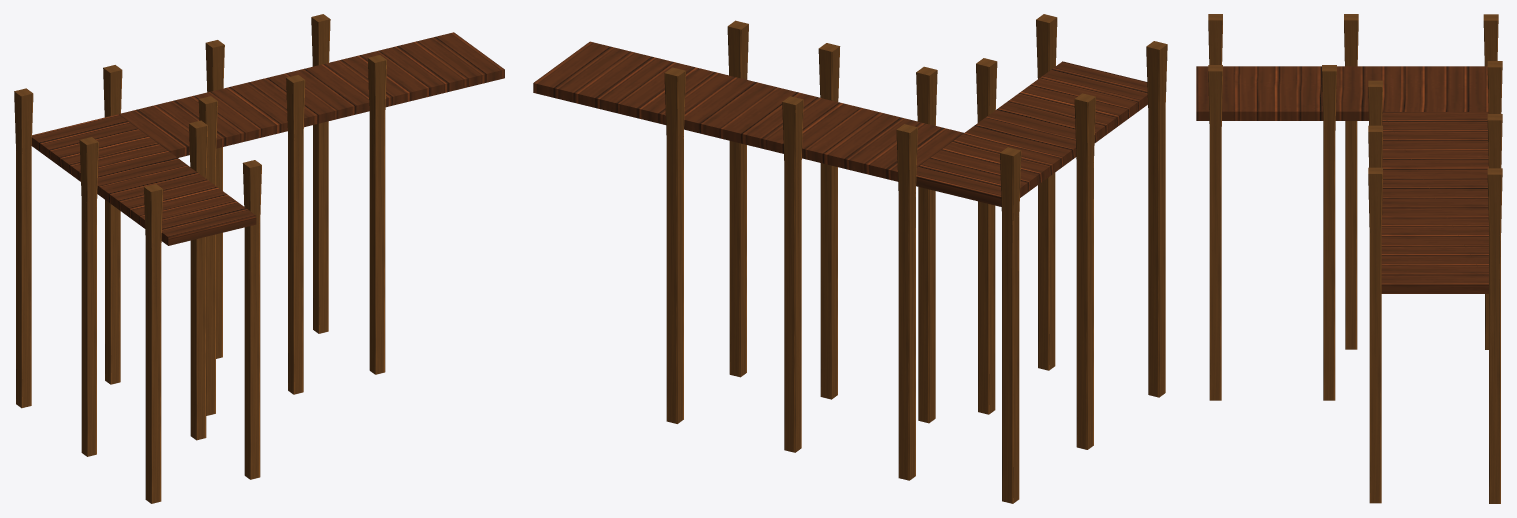
File: co_Dock.fbx
The picture shows the model from 3 angles, left to right: view 1: azimuth 30°, elevation 25°; view 2: azimuth 150°, elevation 25°; view 3: azimuth 270°, elevation 25°; orthographic projection. The views are drawn at different scales.
Visible parts, largest first — view 1: Dock; view 2: Dock; view 3: Dock.
Boxes of the visible parts, x1,y1,x2,y2 form: Dock: (14,14,504,503); Dock: (533,14,1167,503); Dock: (1196,14,1502,503).
Bounding box in the file's own units: 5171 × 3549 × 2979.
